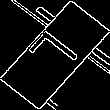L_SE: (24, 27, 86, 83)
